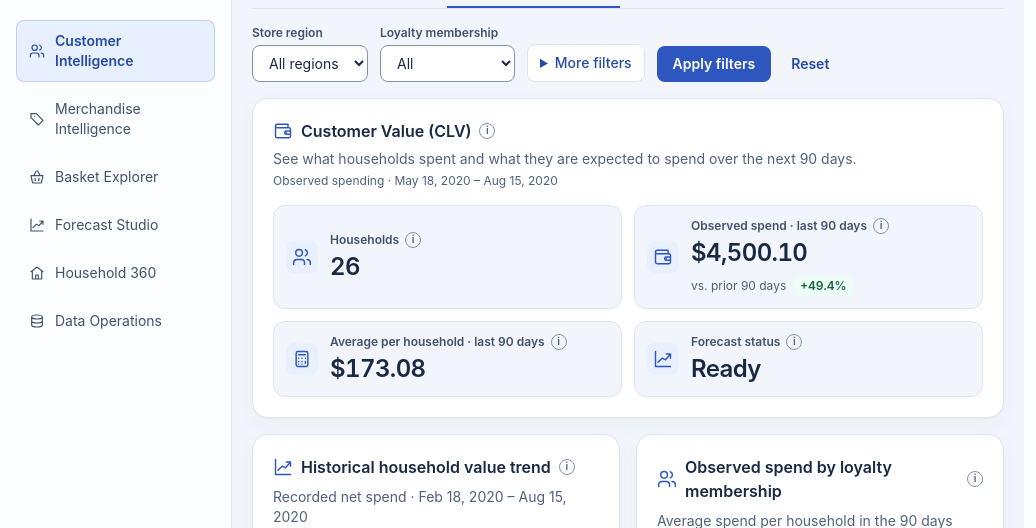
Test: Customer Value › shows shopping segments when loyalty is Y
Expected: the heading "Observed spend by loyalty membership" is shown, [657, 457, 892, 501]
Select "Member" in the dropdown labelled "Loyalty membership" at (448, 64), box [380, 45, 515, 82]
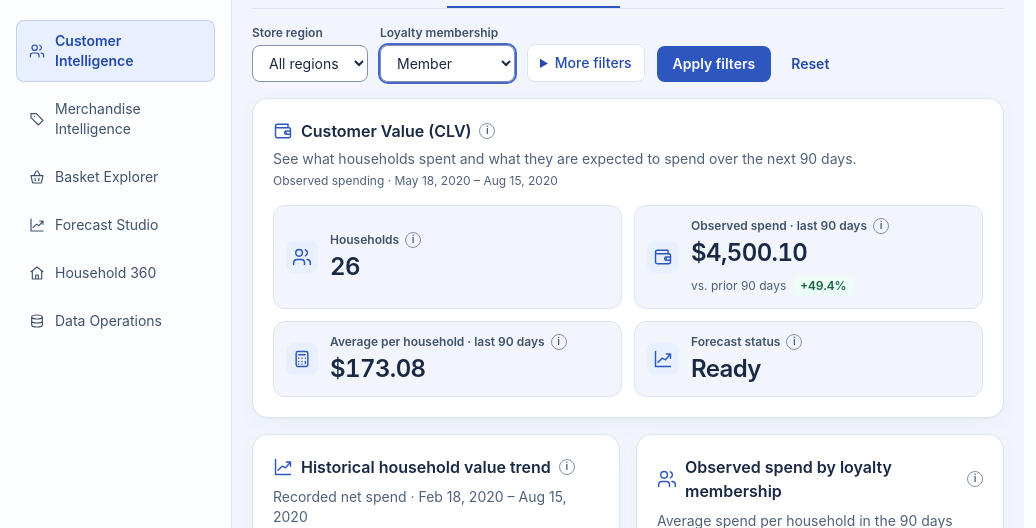
Click the button "Apply filters" at (714, 64), box [657, 46, 771, 82]
(page scrolled)
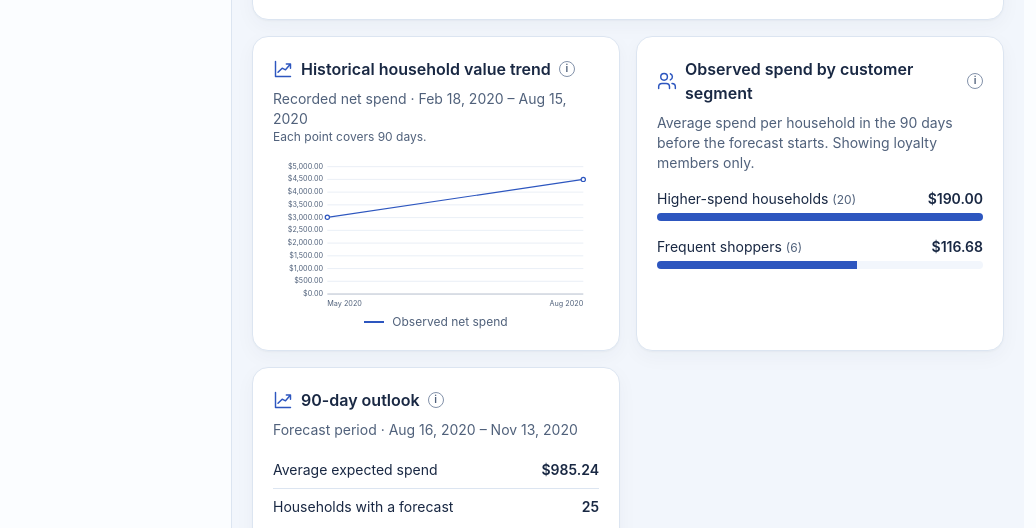
Expected: the text "Higher-spend households" is shown, [657, 190, 828, 207]
Expected: the text "Frequent shoppers" is shown, [657, 238, 782, 255]
